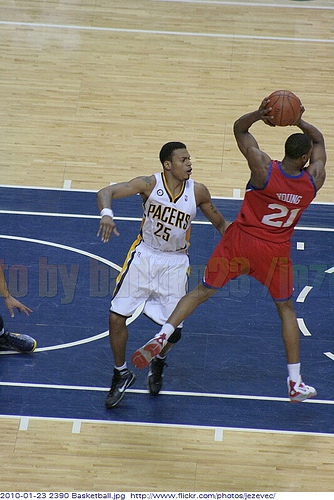basketball: (268, 90, 301, 126)
